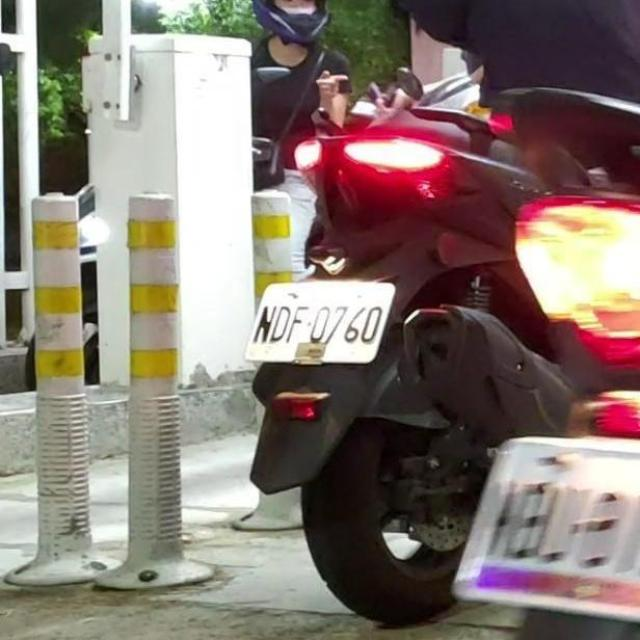W: (456, 430, 640, 616), (242, 270, 400, 373)
